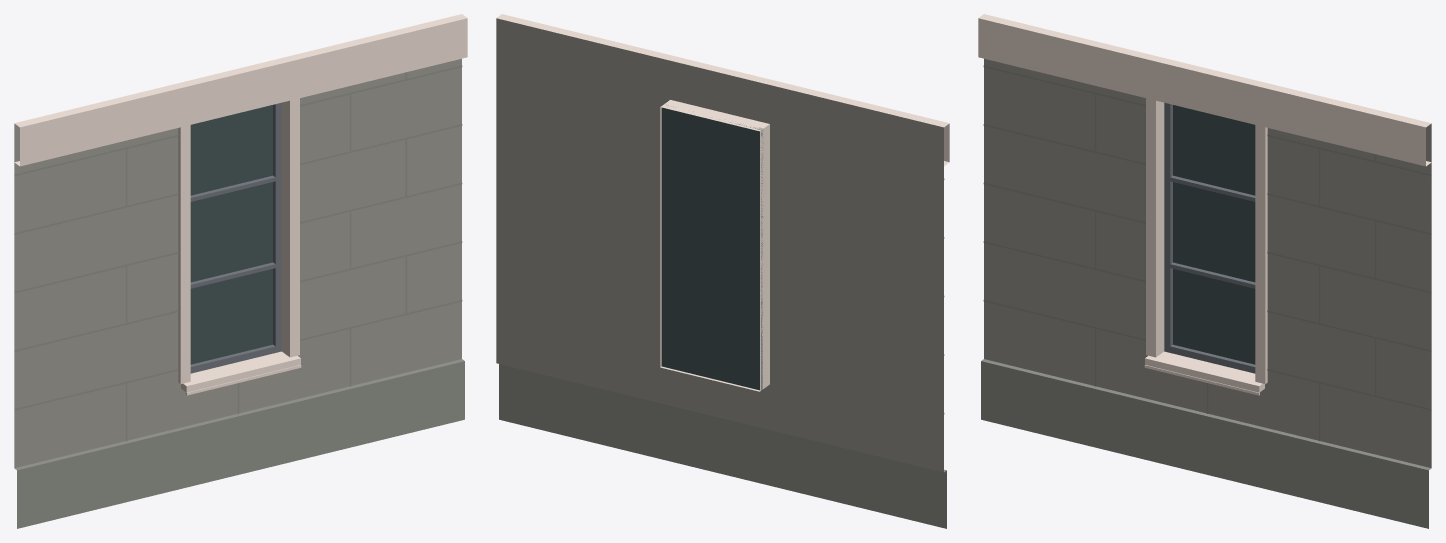
File: base-w4_close.fbx
3 renders of one model, left to right at view 1: azimuth 30°, elevation 25°; view 2: azimuth 150°, elevation 25°; view 3: azimuth 330°, elevation 25°, orthographic.
Parts seen in each view (by area): view 1: a2001/800/base-w4_close; view 2: a2001/800/base-w4_close; view 3: a2001/800/base-w4_close.
Boxes of the visible parts, box(x1,y1,x2,y2) form: a2001/800/base-w4_close: box(14, 14, 467, 528); a2001/800/base-w4_close: box(496, 14, 949, 528); a2001/800/base-w4_close: box(978, 14, 1431, 528).
Bounding box in the file's own units: 3.6 × 3.1 × 0.225.
